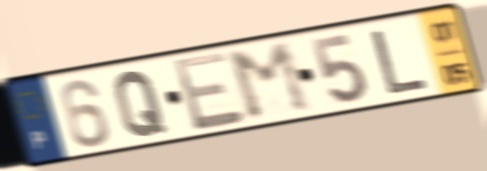5: (307, 30, 371, 107)
6: (58, 76, 112, 151)
E: (169, 48, 249, 135)
L: (369, 27, 432, 97)
M: (222, 38, 317, 125)
Q: (112, 68, 170, 140)
